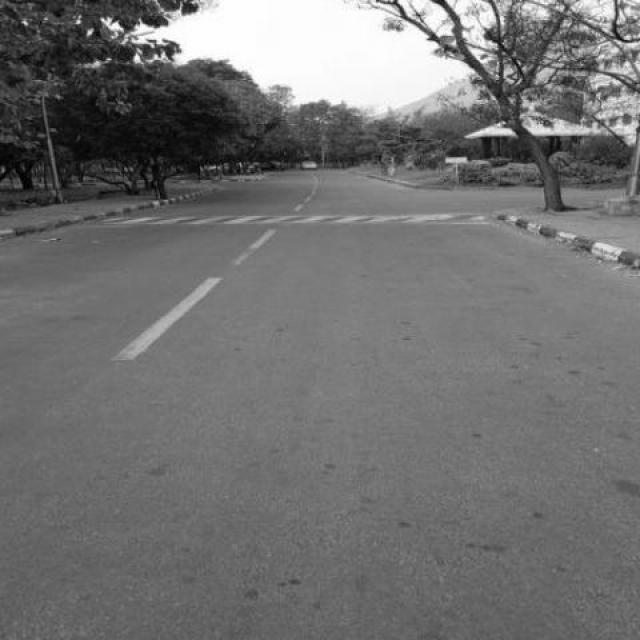Speed Bump: (94, 212, 498, 227)
